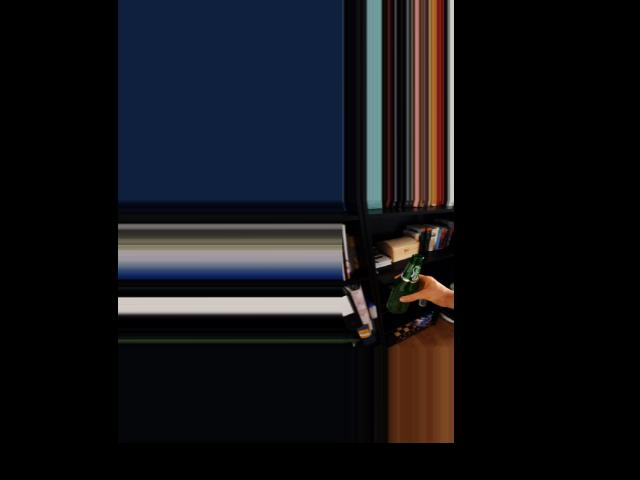beer: (385, 254, 423, 314)
